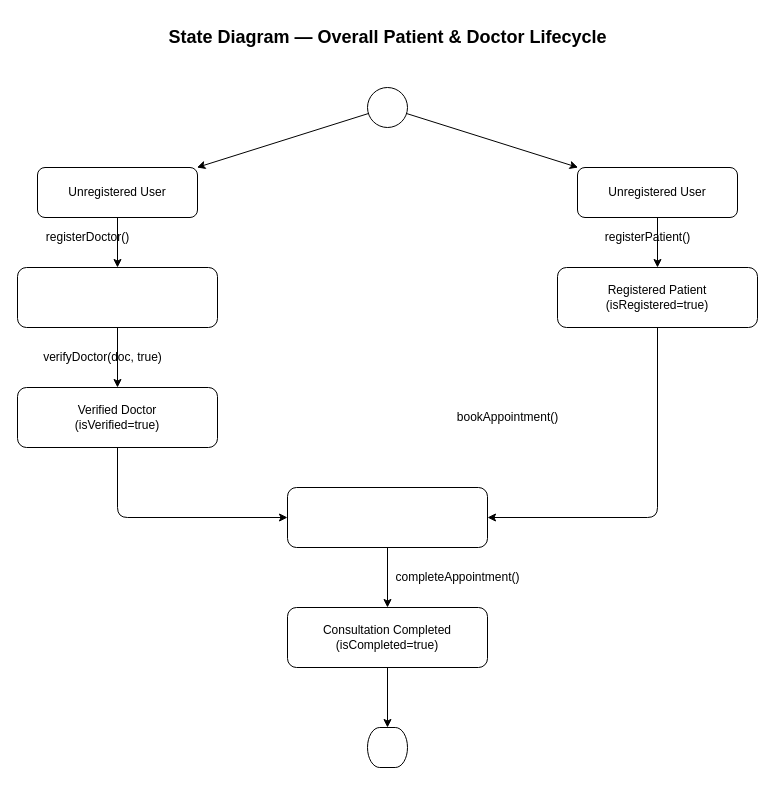
Image size: 775x785. Some labels were removed from this diagram. The centre of each missing label's shape, as x and y in pixels:
"Appointment Booked" belongs at (x=387, y=517).
"Pending Doctor (isRegistered=true, isVerified=false)" belongs at (x=117, y=297).
